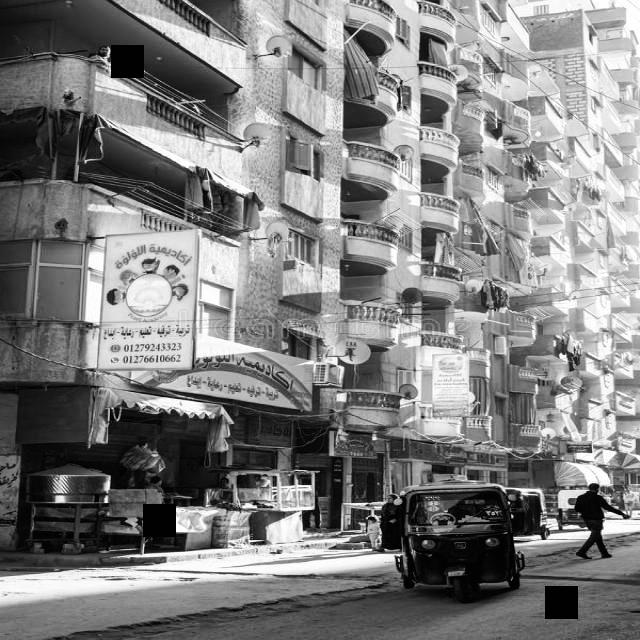Auto-Rickshaw: (385, 480, 544, 600)
